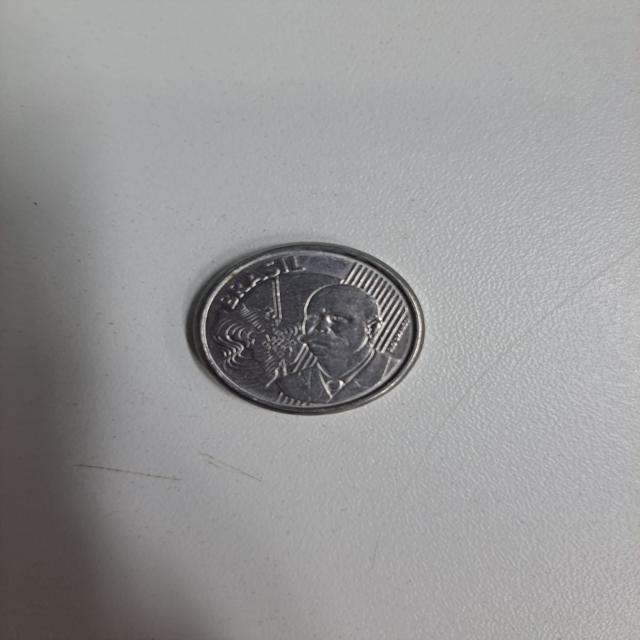50 cents: (181, 242, 434, 415)
